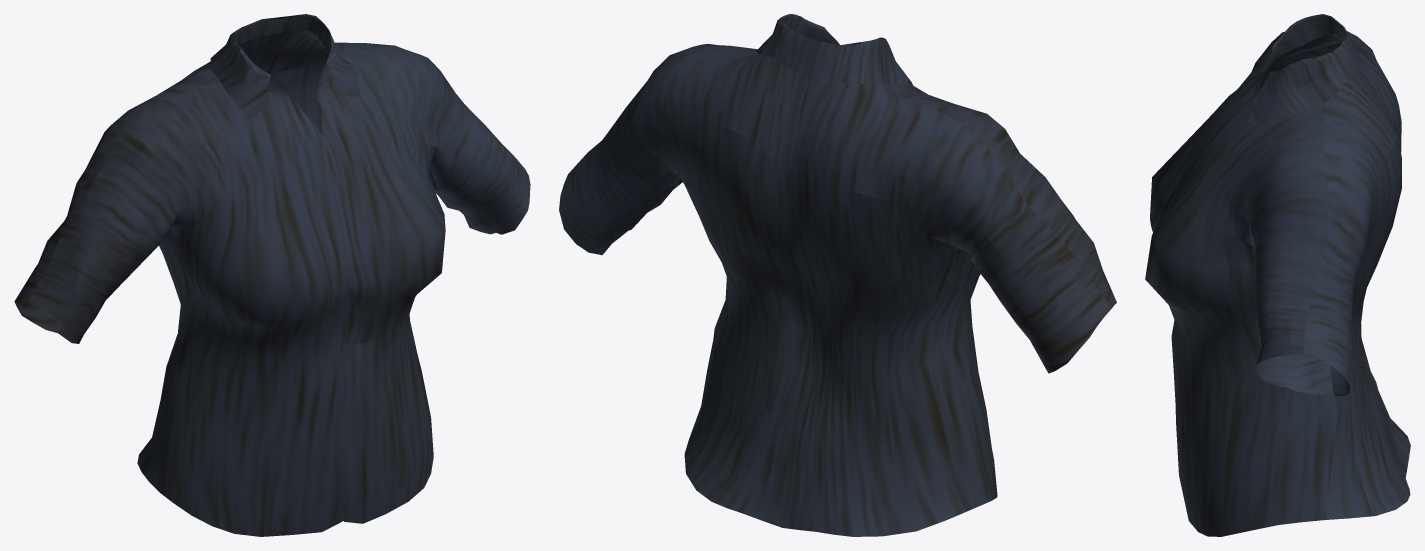
Rendered from SXL_XLF.dae.
3 views of the same model, side by side, from view 1: azimuth 30°, elevation 25°; view 2: azimuth 150°, elevation 25°; view 3: azimuth 270°, elevation 25° (orthographic). The views are drawn at different scales.
Parts seen in each view (by area): view 1: shirt01Mesh; view 2: shirt01Mesh; view 3: shirt01Mesh.
Part boxes in pixels (x1=…): shirt01Mesh: x1=14, y1=14, x2=530, y2=536; shirt01Mesh: x1=559, y1=14, x2=1116, y2=536; shirt01Mesh: x1=1145, y1=14, x2=1410, y2=536.
Bounding box in the file's own units: 6.58 × 5.76 × 2.96.
